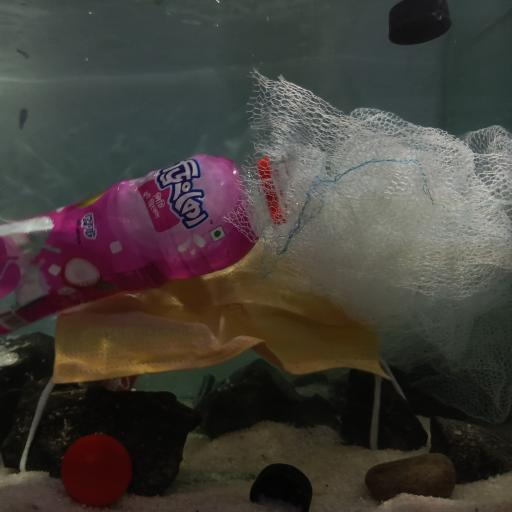bottle_cap: (59, 432, 135, 507), (249, 464, 312, 512), (388, 2, 453, 46)
mask: (38, 243, 408, 400)
net: (220, 64, 512, 425)
plastic_bottle: (2, 151, 304, 337), (46, 317, 215, 403)
